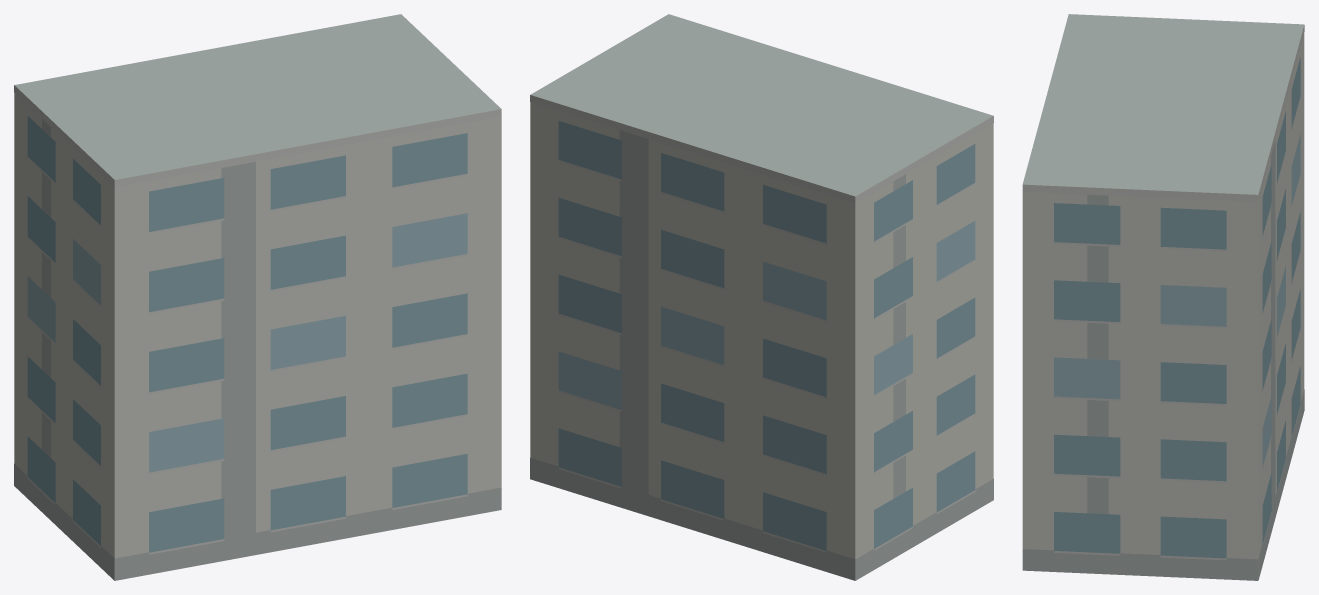
The model's file is survey-upis-32572708.glb.
The picture shows the model from 3 angles, left to right: view 1: azimuth 30°, elevation 25°; view 2: azimuth 150°, elevation 25°; view 3: azimuth 270°, elevation 25°; orthographic projection. The views are drawn at different scales.
Visible parts, largest first — view 1: survey-upis-32572708.tmp; view 2: survey-upis-32572708.tmp; view 3: survey-upis-32572708.tmp.
Boxes of the visible parts, left/top/right/bottom form: survey-upis-32572708.tmp: left=14, top=14, right=501, bottom=580; survey-upis-32572708.tmp: left=530, top=14, right=993, bottom=580; survey-upis-32572708.tmp: left=1022, top=14, right=1304, bottom=580.
Bounding box in the file's own units: 13.08 × 13 × 8.62.
